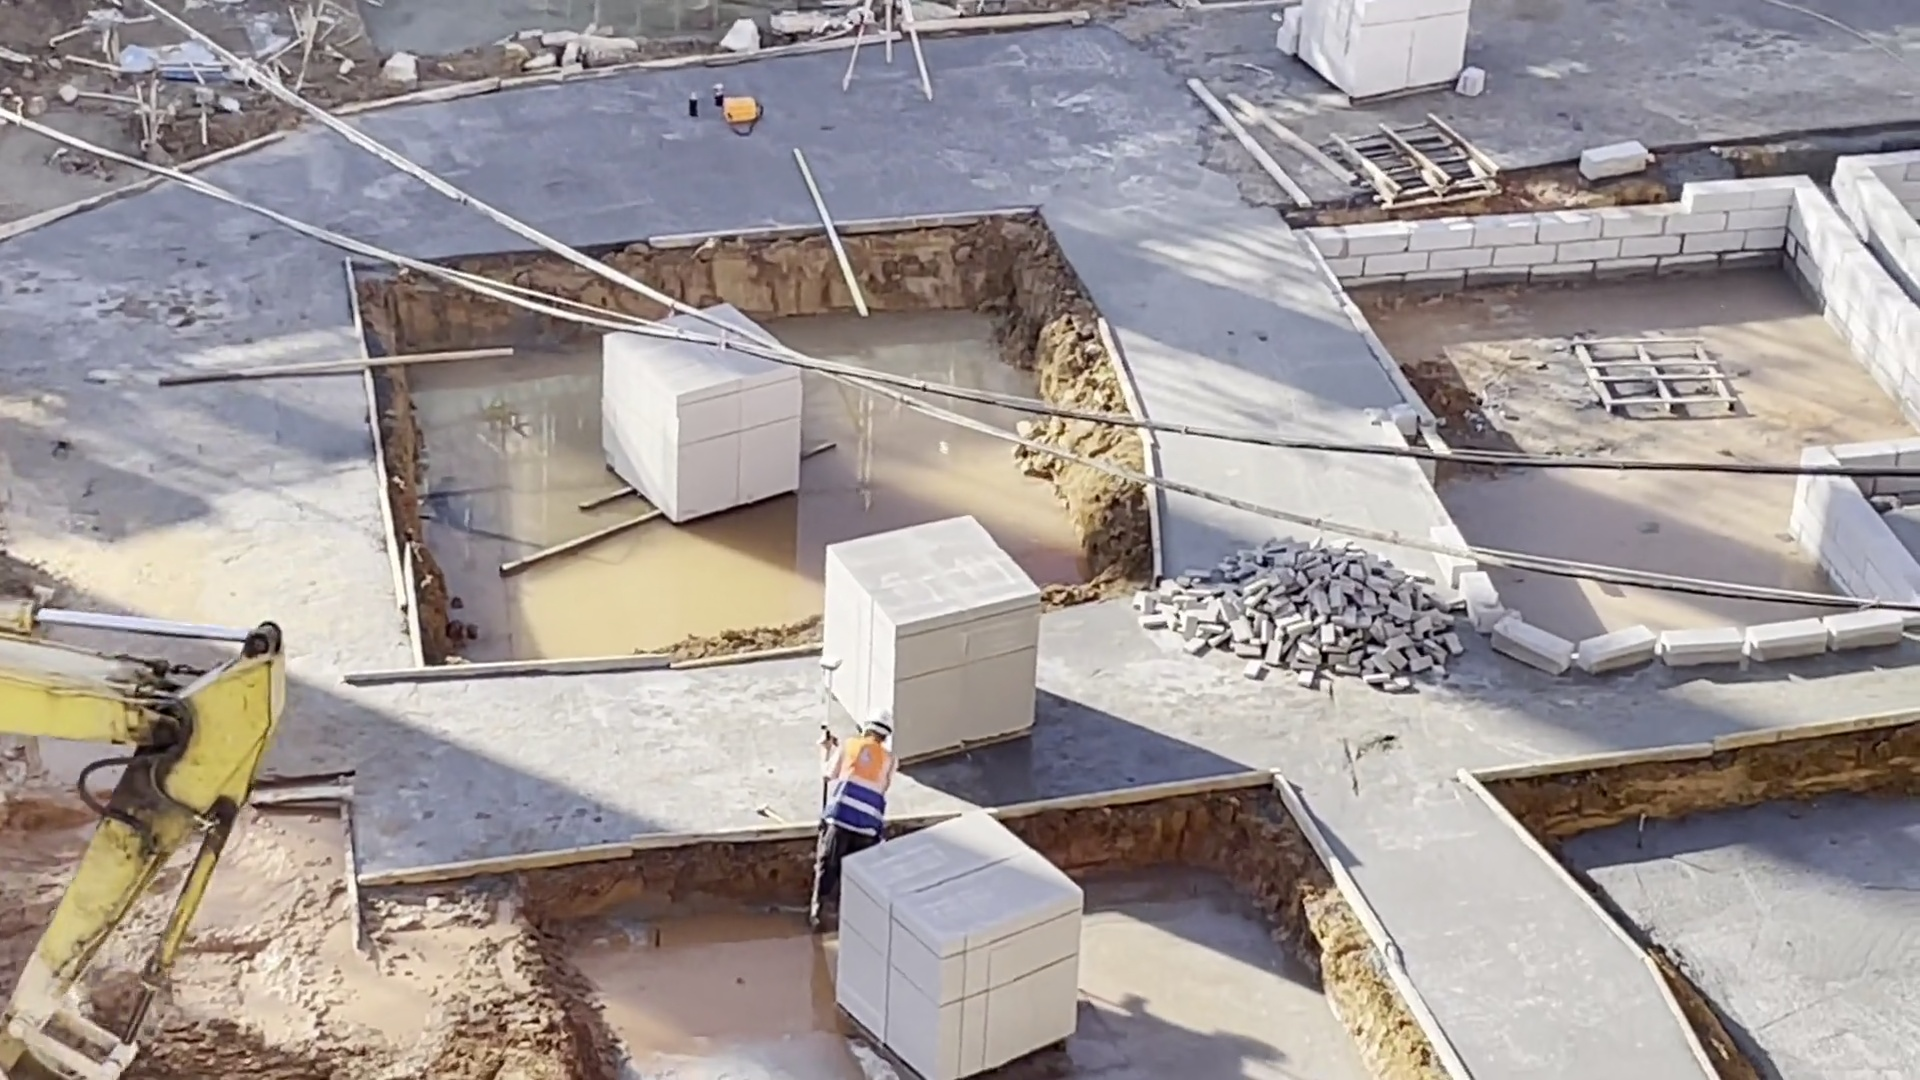brick: (825, 805, 1085, 1080), (1138, 526, 1474, 697), (813, 514, 1048, 755), (588, 299, 809, 531), (1272, 1, 1481, 100)
helmet: (864, 711, 893, 744)
person: (803, 709, 902, 905)
vest: (833, 744, 893, 858)
